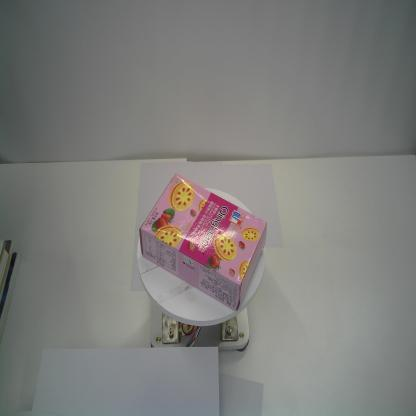Dessert: (137, 175, 271, 311)
